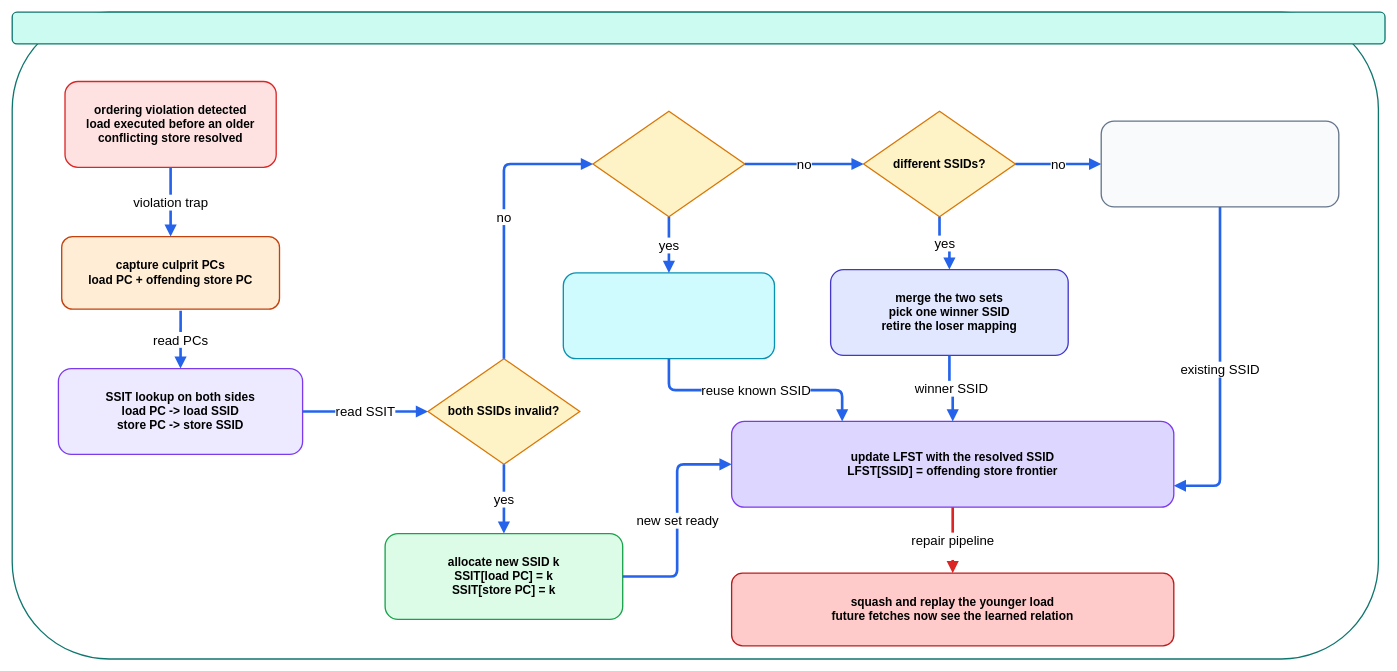
Image size: 1397x671. Some labels were removed from this diagram. The shapes that lost their labels are listed below. From the top down, each one's centre as x and y in pixels, then its label:
pixel 698 27: Violation Update Flow
pixel 668 163: exactly one SSID valid?
pixel 1219 163: keep current SSID the pair was already in one set
pixel 668 315: propagate existing SSID fill the missing SSIT entry
